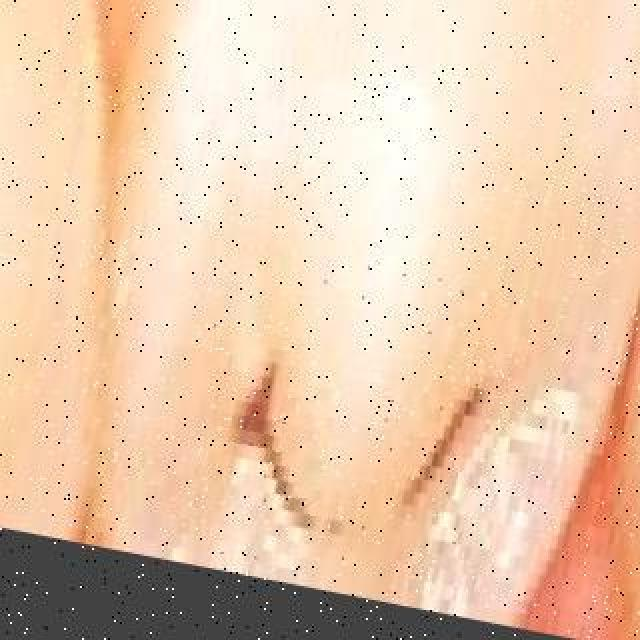cavities: (200, 225, 556, 617)
